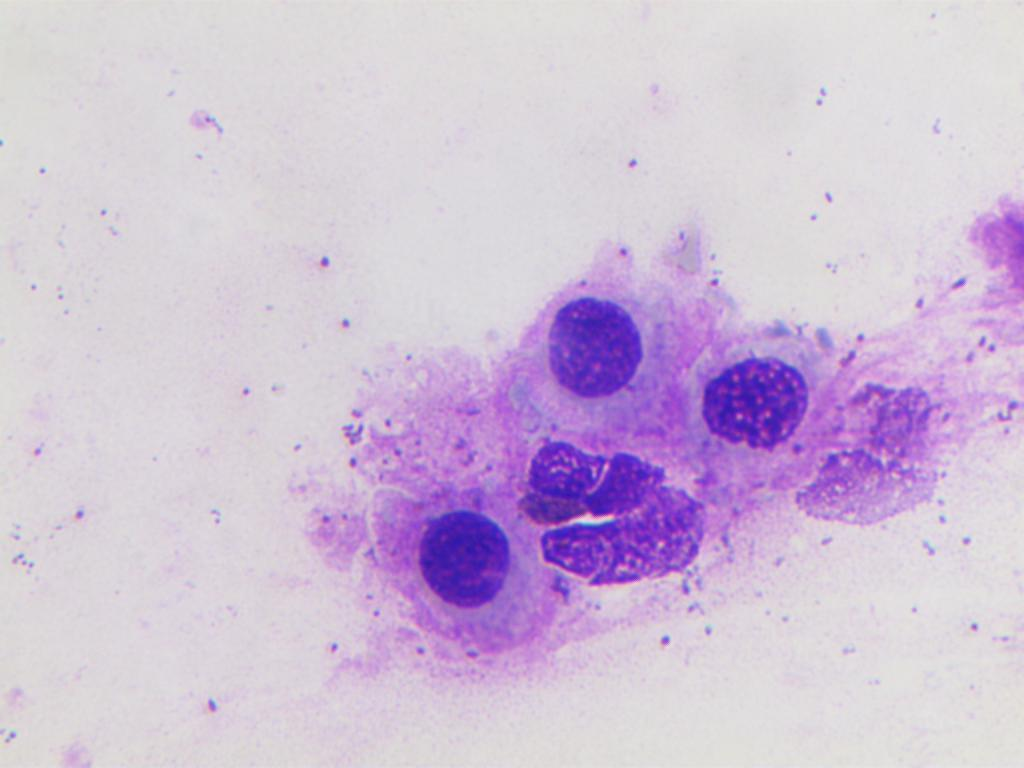epithelial: (519, 438, 720, 592), (511, 245, 681, 420), (688, 310, 856, 453), (408, 485, 518, 613)
